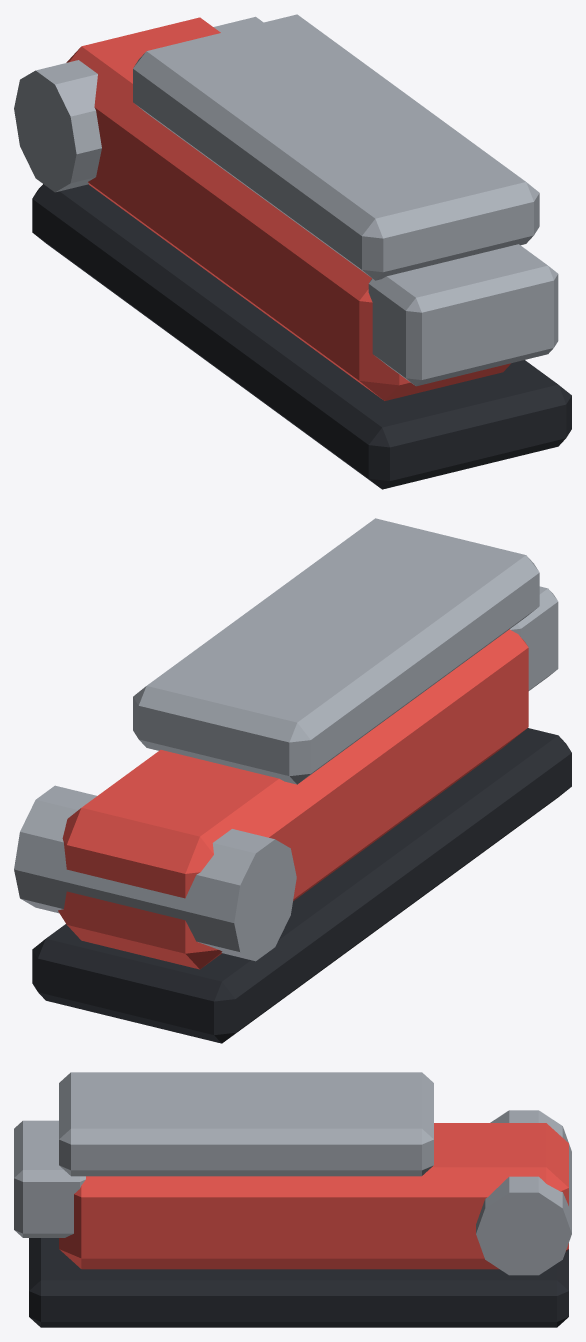
File: artillery_m0_1.glb
3 views of the same model, one above another, from view 1: azimuth 30°, elevation 25°; view 2: azimuth 150°, elevation 25°; view 3: azimuth 270°, elevation 25° (orthographic). The views are drawn at different scales.
Parts seen in each view (by area): view 1: artillery_m0_1_mesh; view 2: artillery_m0_1_mesh; view 3: artillery_m0_1_mesh.
Part boxes in pixels (x1,y1,x2,y2): artillery_m0_1_mesh: (14,14,571,489); artillery_m0_1_mesh: (14,518,571,1043); artillery_m0_1_mesh: (14,1072,571,1327).
Size of the model in its own units: 0.13 by 0.143 by 0.372.
